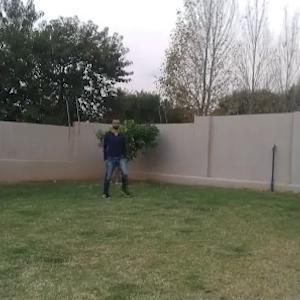follow: (102, 114, 123, 199)
